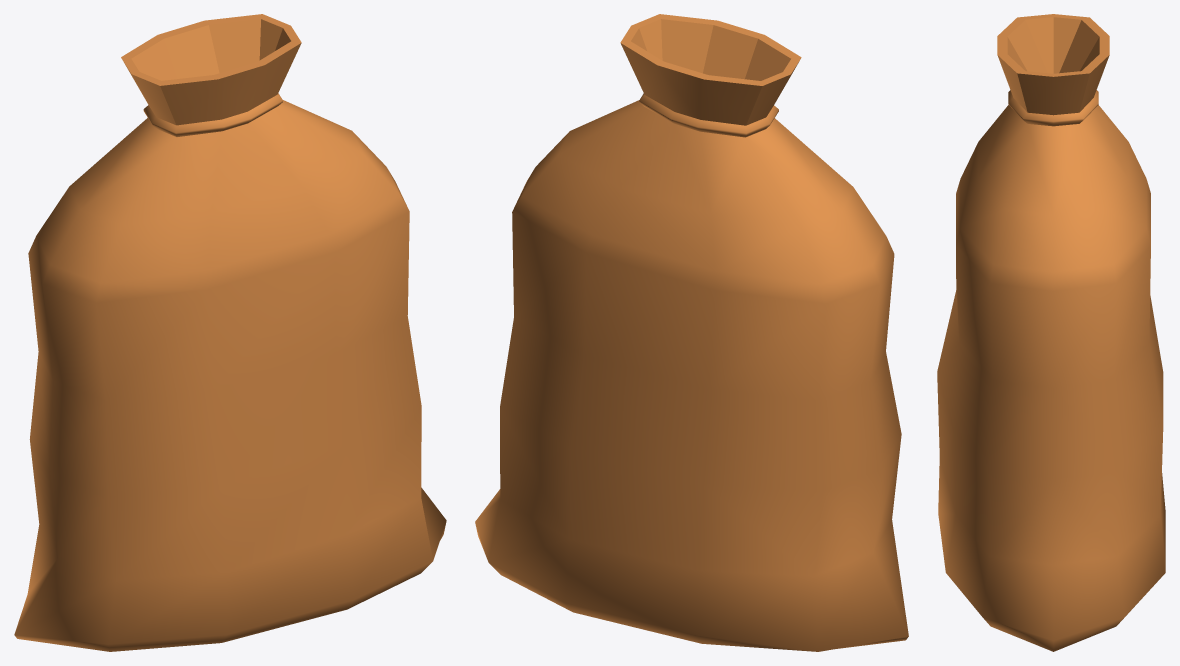
File: GrainSack_Closed.fbx
3 renders of one model, left to right at view 1: azimuth 30°, elevation 25°; view 2: azimuth 150°, elevation 25°; view 3: azimuth 270°, elevation 25°, orthographic. The views are drawn at different scales.
Parts seen in each view (by area): view 1: GrainSack_Tied; view 2: GrainSack_Tied; view 3: GrainSack_Tied.
Part boxes in pixels (x1=…): GrainSack_Tied: x1=14, y1=14, x2=446, y2=651; GrainSack_Tied: x1=475, y1=14, x2=908, y2=651; GrainSack_Tied: x1=937, y1=14, x2=1165, y2=651.
Bounding box in the file's own units: 21.71 × 26.21 × 10.73.
